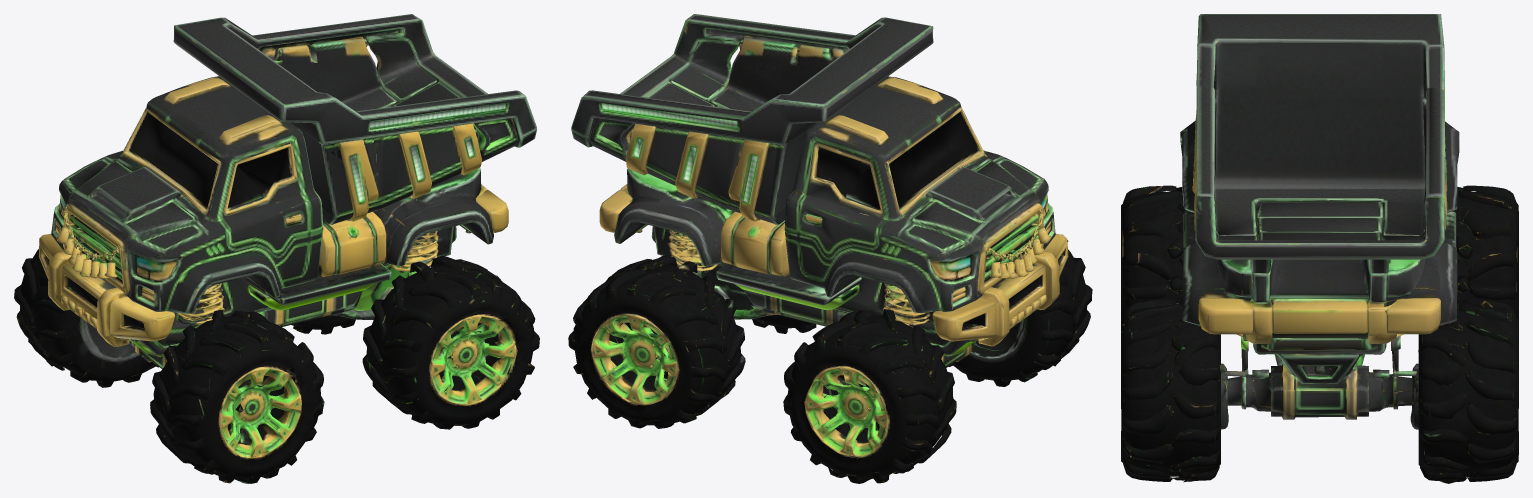
File: tonka_truck.glb
The picture shows the model from 3 angles, left to right: view 1: azimuth 30°, elevation 25°; view 2: azimuth 150°, elevation 25°; view 3: azimuth 270°, elevation 25°; orthographic projection. The views are drawn at different scales.
Bounding box in the file's own units: 0.9521 × 0.7651 × 0.7314.
Materials: 1 (1 with a texture image).
